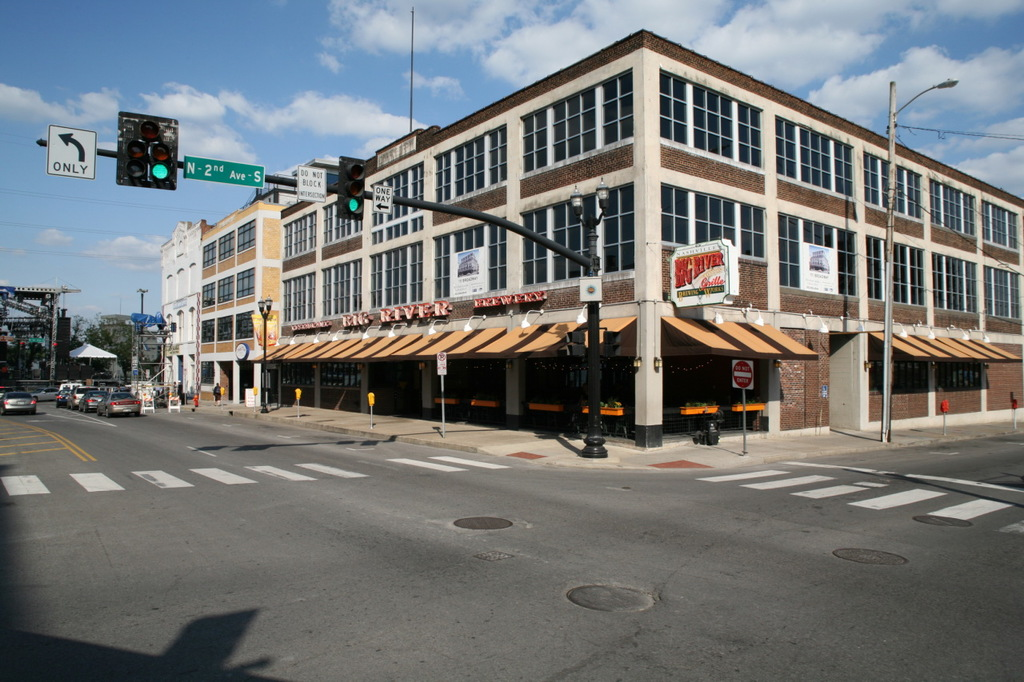green_light: (121, 116, 177, 188), (340, 157, 366, 220)
